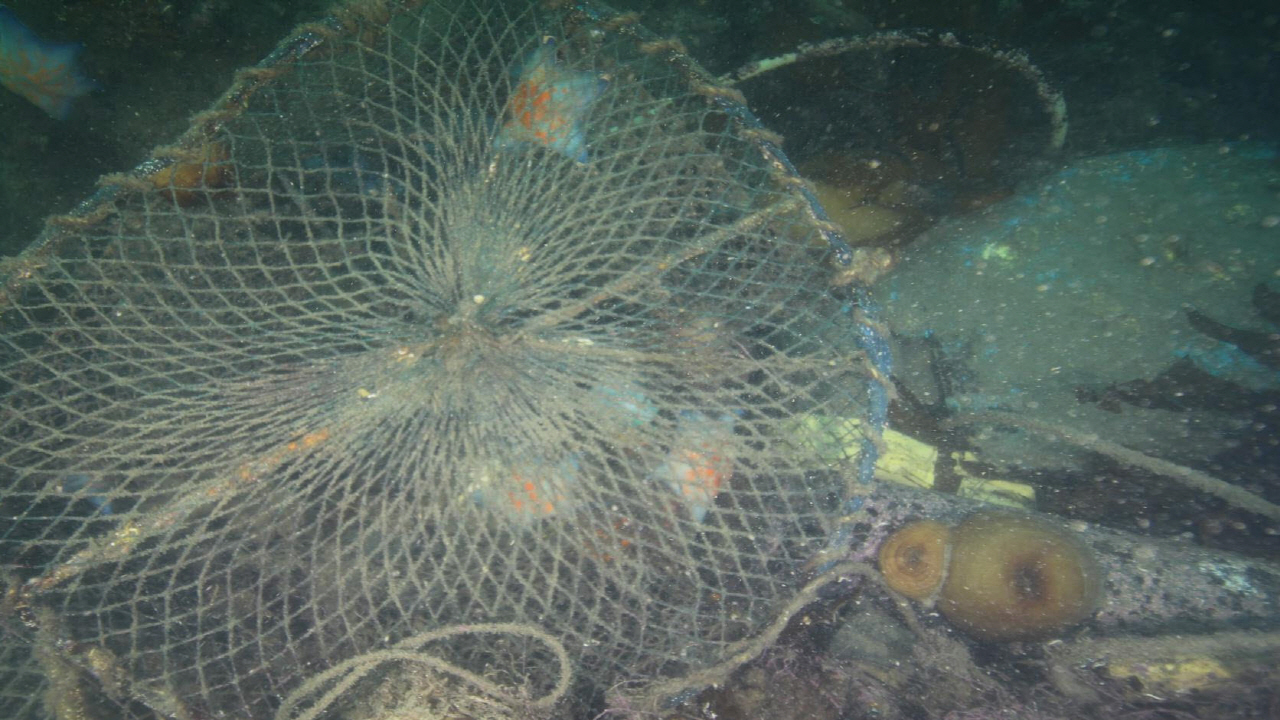circular fish trap: (0, 0, 886, 719)
